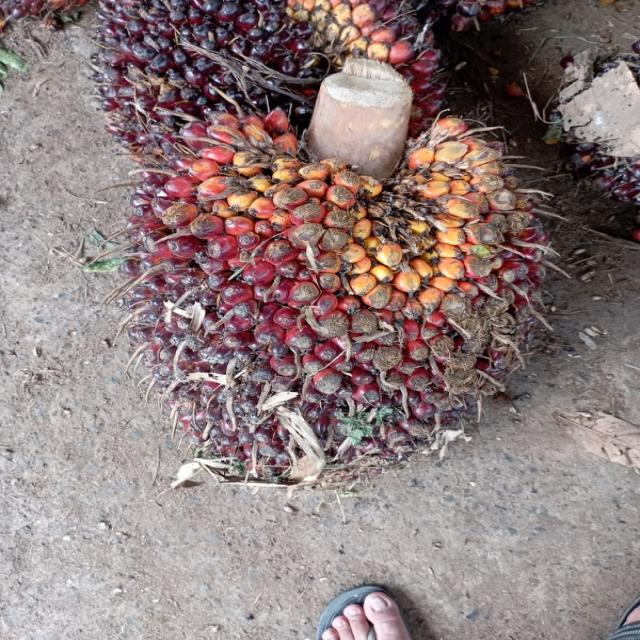fraksi 1: (88, 80, 561, 497)
